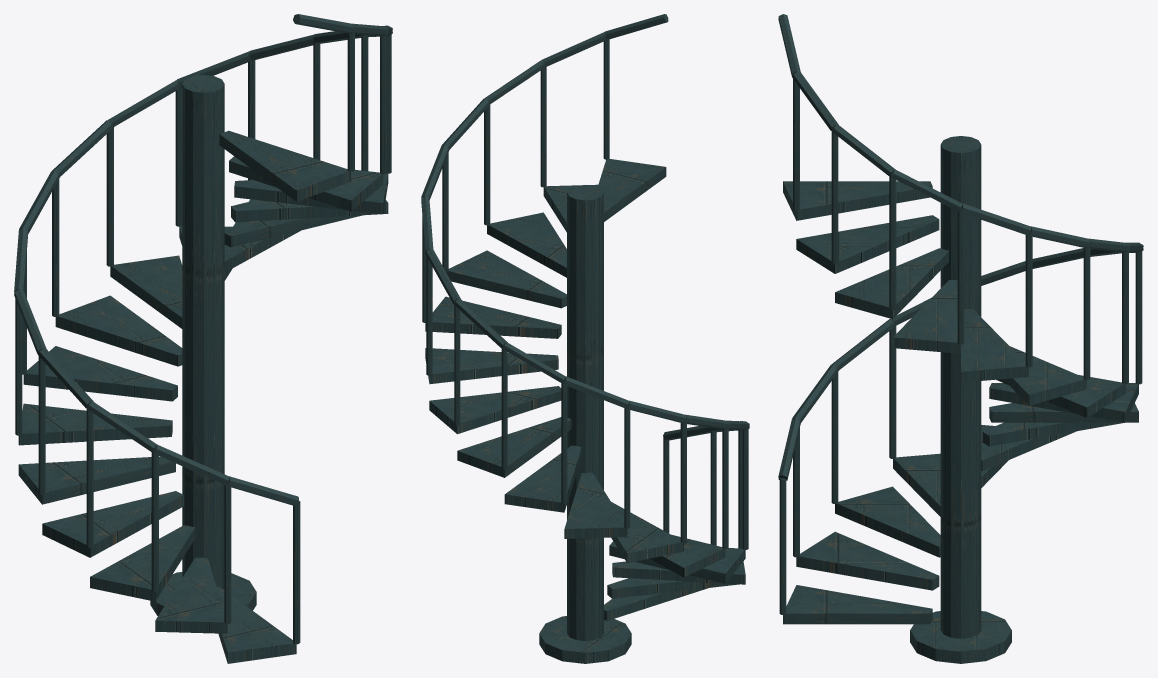
Rendered from SM_BunkerControl_SpiralStair.fbx.
3 renders of one model, left to right at view 1: azimuth 30°, elevation 25°; view 2: azimuth 150°, elevation 25°; view 3: azimuth 270°, elevation 25°, orthographic. The views are drawn at different scales.
Visible parts, largest first — view 1: SM_BunkerControl_SpiralStair; view 2: SM_BunkerControl_SpiralStair; view 3: SM_BunkerControl_SpiralStair.
Part boxes in pixels (x1,y1,x2,y2): SM_BunkerControl_SpiralStair: (14,14,392,663); SM_BunkerControl_SpiralStair: (421,14,749,663); SM_BunkerControl_SpiralStair: (778,14,1143,663).
Size of what is drawn, in the model's own units: 215 by 215 by 409.
